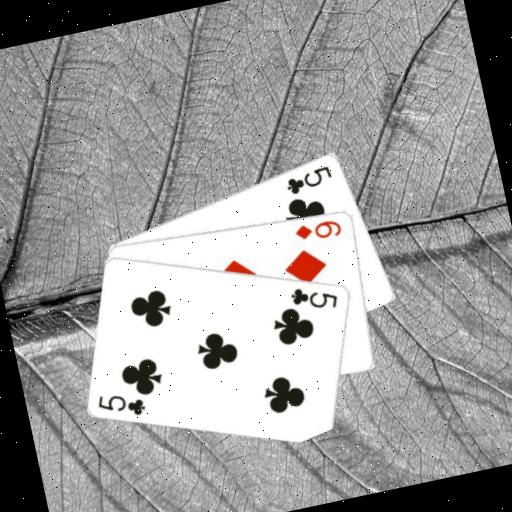5C: (93, 383, 149, 425), (286, 277, 341, 318), (280, 162, 335, 197)
6D: (290, 214, 344, 246)
